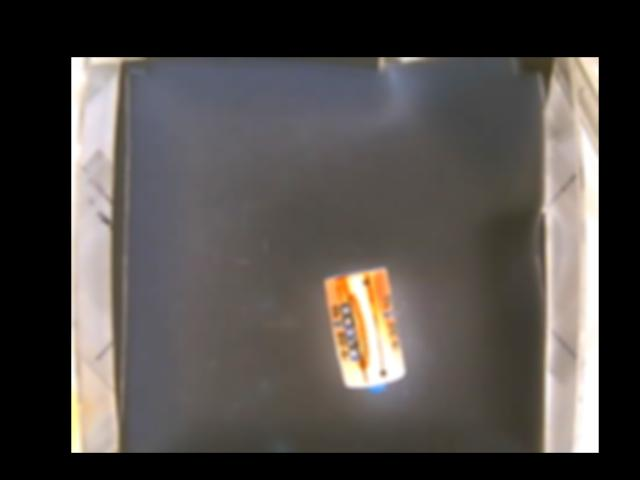Battery: (324, 265, 406, 395)
